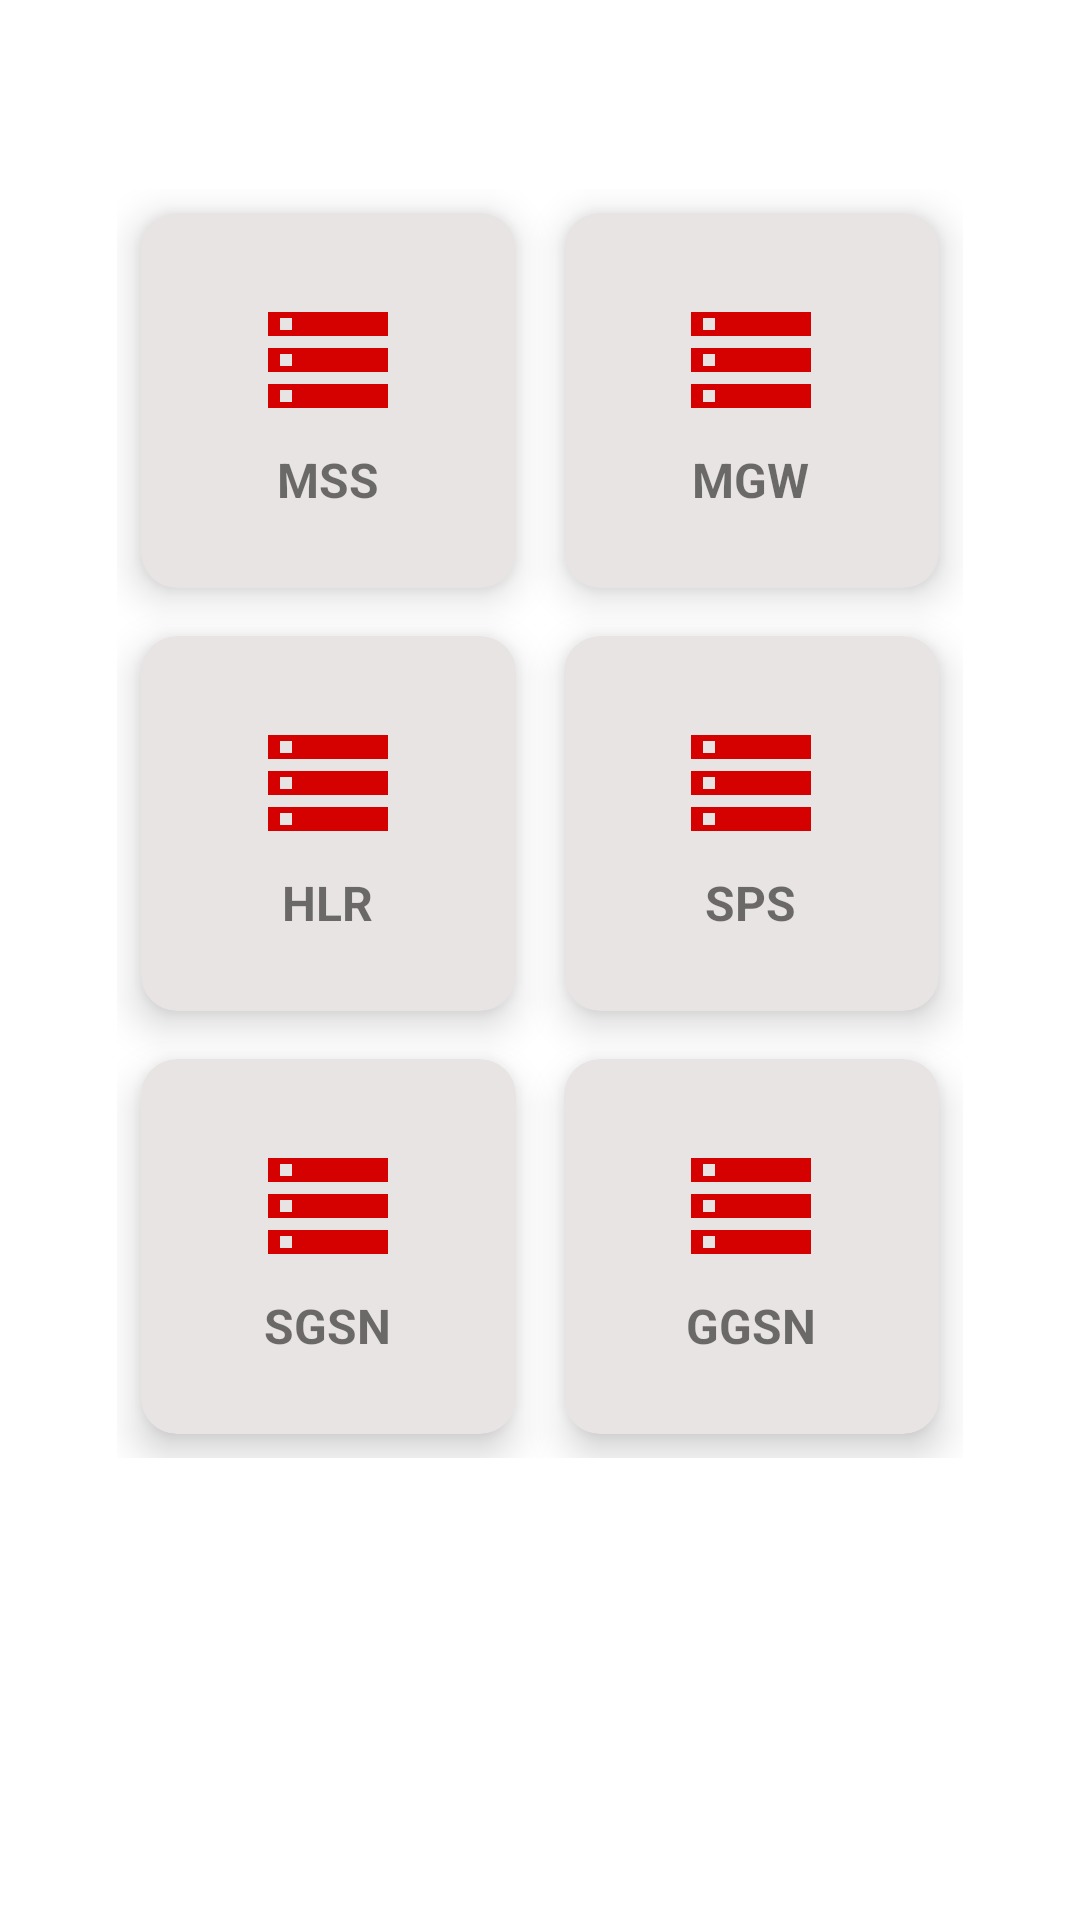

Screen size 1080 x 1920. Icon name, then its box in pixels as [left=x1, top=y1, right=x2, bottom=y2]:
storage: [left=268, top=312, right=388, bottom=408], [left=691, top=312, right=811, bottom=408], [left=268, top=735, right=388, bottom=831], [left=691, top=735, right=811, bottom=831], [left=268, top=1158, right=388, bottom=1254], [left=691, top=1158, right=811, bottom=1254]
